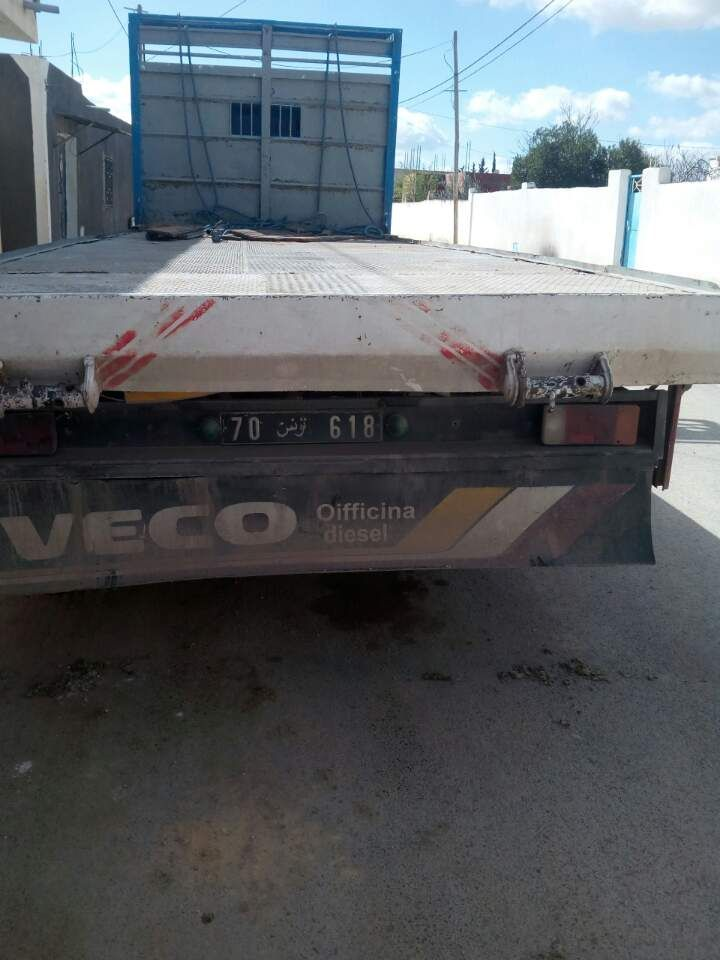LP: (219, 409, 386, 446)
